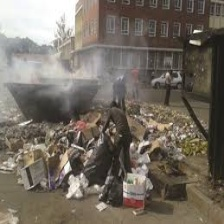smoke: (2, 52, 108, 98)
